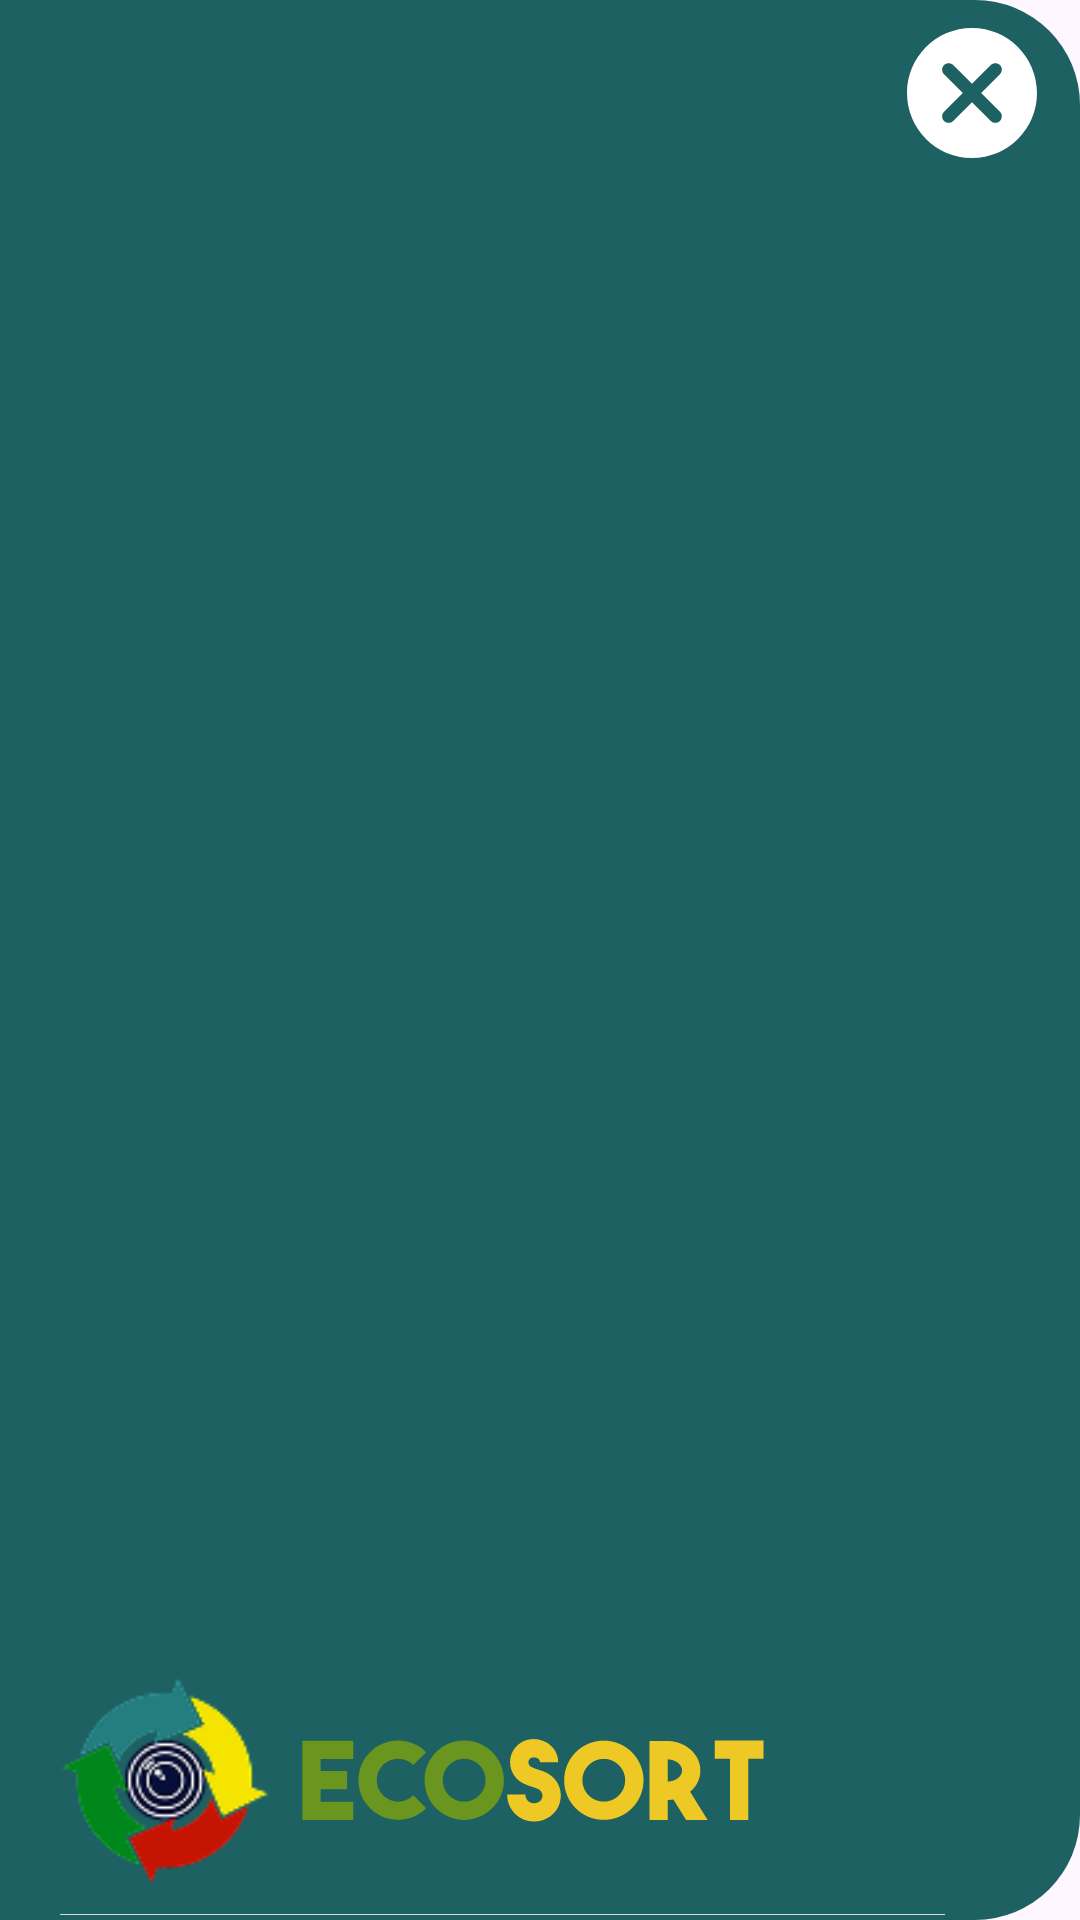

Where to tap for icons on this 1080*1920 app screen, as point (x, y):
close menu: point (972, 93)
